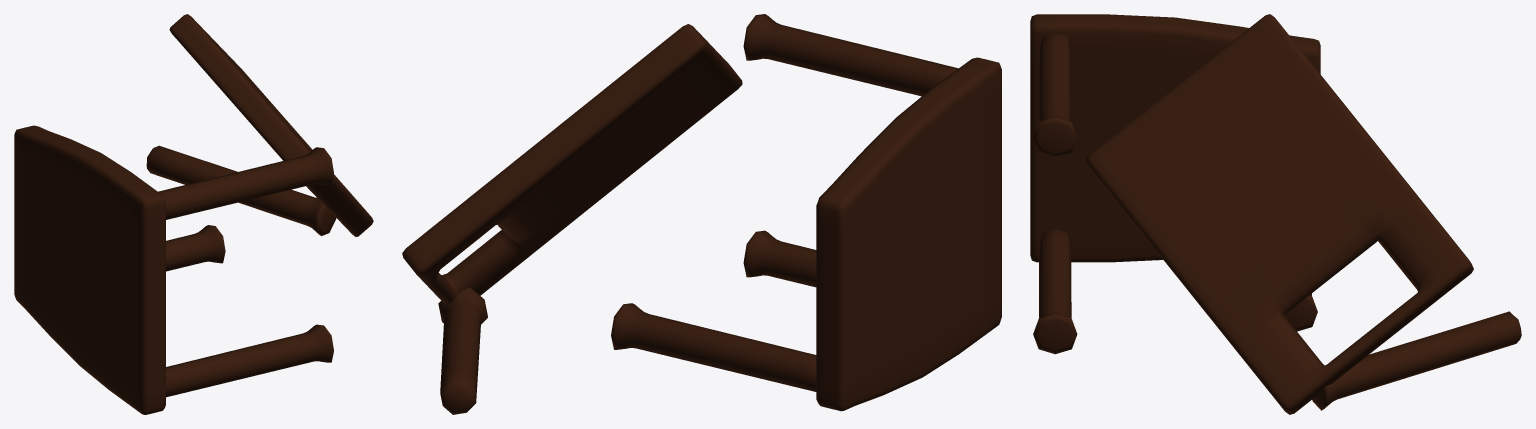
Rendered from chair_broken.fbx.
The picture shows the model from 3 angles, left to right: view 1: azimuth 30°, elevation 25°; view 2: azimuth 150°, elevation 25°; view 3: azimuth 270°, elevation 25°; orthographic projection. The views are drawn at different scales.
Visible parts, largest first — view 1: Cube; view 2: Cube; view 3: Cube.
Boxes of the visible parts, x1,y1,x2,y2 form: Cube: [14, 14, 373, 414]; Cube: [402, 14, 1001, 414]; Cube: [1030, 14, 1521, 414].
Bounding box in the file's own units: 949 × 754 × 1056.
